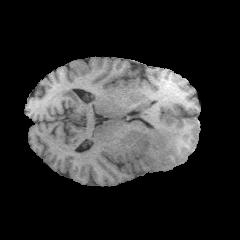glioma: (126, 107, 182, 169)
